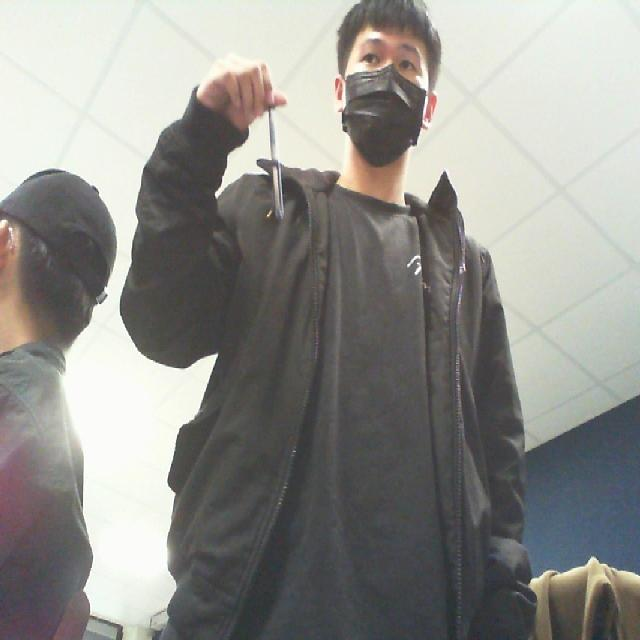Pen: (243, 77, 318, 260)
